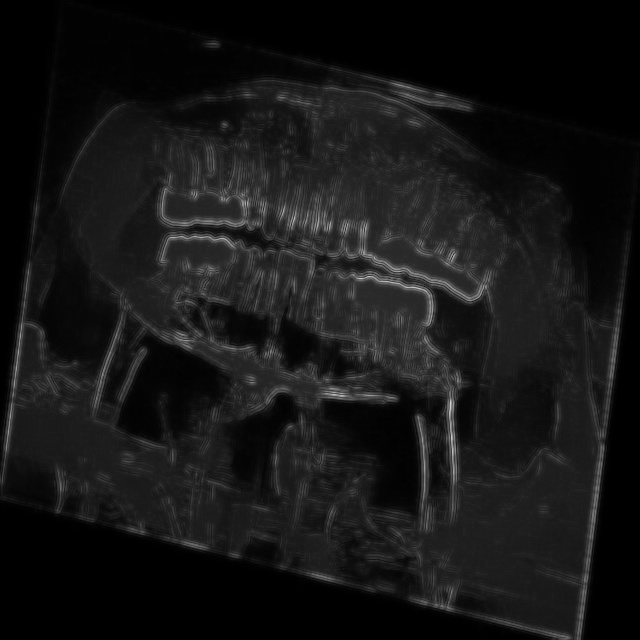Class 0- No endodontic treatment: (347, 302, 394, 374), (389, 311, 423, 385)
Class 1- complete endodontic treatment: (183, 130, 233, 209), (384, 174, 434, 252)
Class 2- incomplete endodontic treatment: (450, 202, 509, 302), (413, 184, 468, 272)
cavity: (244, 140, 372, 265)
